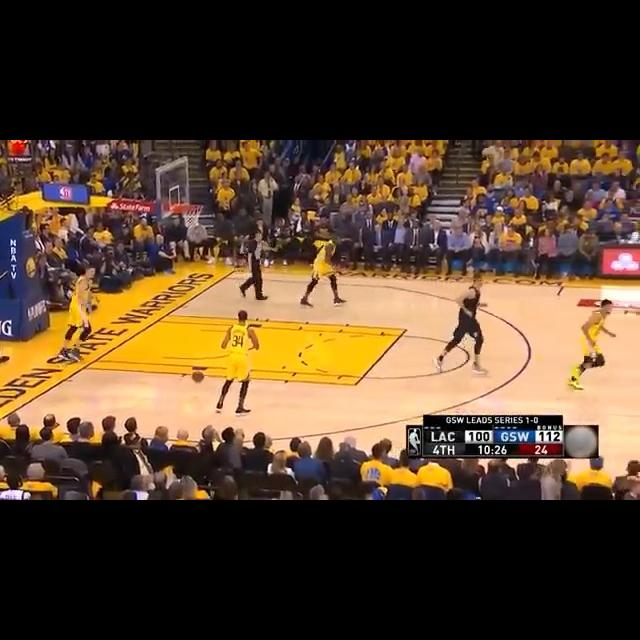basketball: (191, 371, 203, 382)
hoop: (178, 204, 203, 232)
